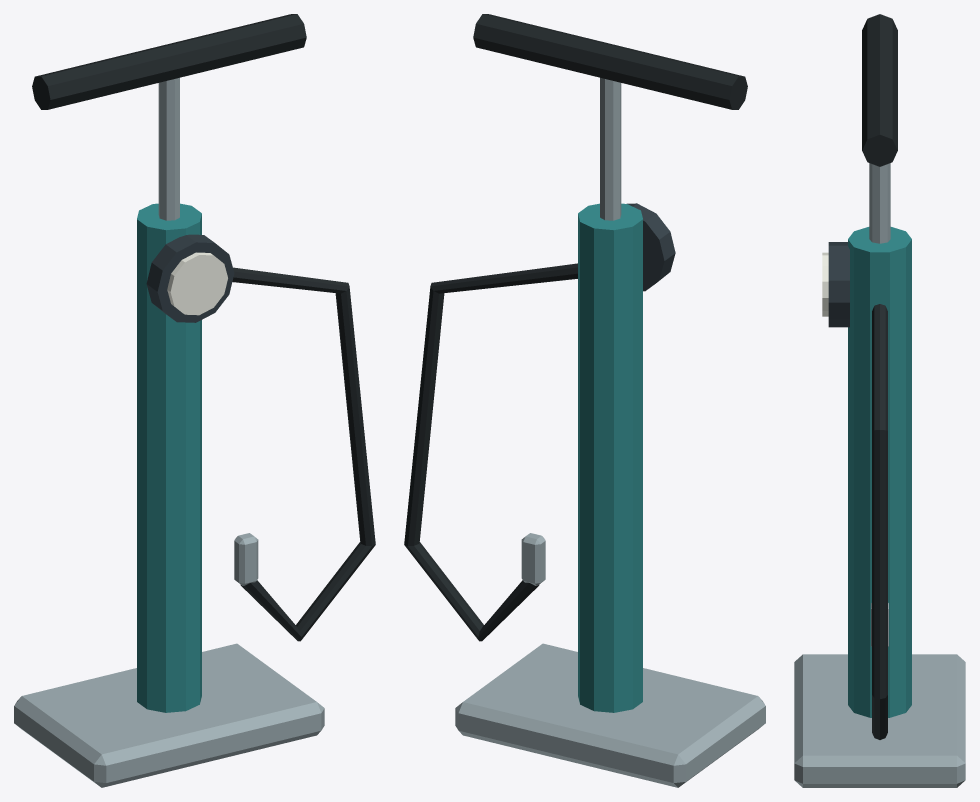
The model's file is Public_Bike_Pump.glb.
3 views of the same model, side by side, from view 1: azimuth 30°, elevation 25°; view 2: azimuth 150°, elevation 25°; view 3: azimuth 270°, elevation 25° (orthographic). The views are drawn at different scales.
Visible parts, largest first — view 1: Public_Bike_Pump; view 2: Public_Bike_Pump; view 3: Public_Bike_Pump.
Part boxes in pixels (box(x1,y1,x2,y2)): Public_Bike_Pump: box(14, 14, 375, 787); Public_Bike_Pump: box(404, 14, 765, 787); Public_Bike_Pump: box(794, 14, 965, 787).
Bounding box in the file's own units: 0.5209 × 1.02 × 0.24.
